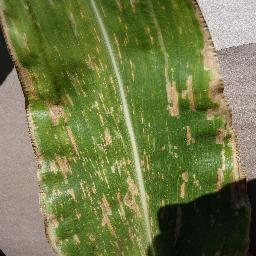Gray_Leaf_Spot: (32, 64, 142, 256), (0, 0, 46, 161), (193, 1, 249, 122), (213, 116, 247, 200), (157, 73, 204, 116), (73, 1, 104, 36), (80, 44, 111, 77), (131, 142, 156, 178), (108, 26, 138, 50), (103, 0, 149, 15), (138, 19, 163, 45), (203, 236, 230, 256), (175, 169, 194, 197), (178, 125, 197, 152), (150, 225, 162, 256), (208, 203, 221, 230), (157, 193, 172, 211), (155, 134, 166, 158), (191, 177, 204, 196), (181, 208, 189, 235), (175, 22, 186, 36)
